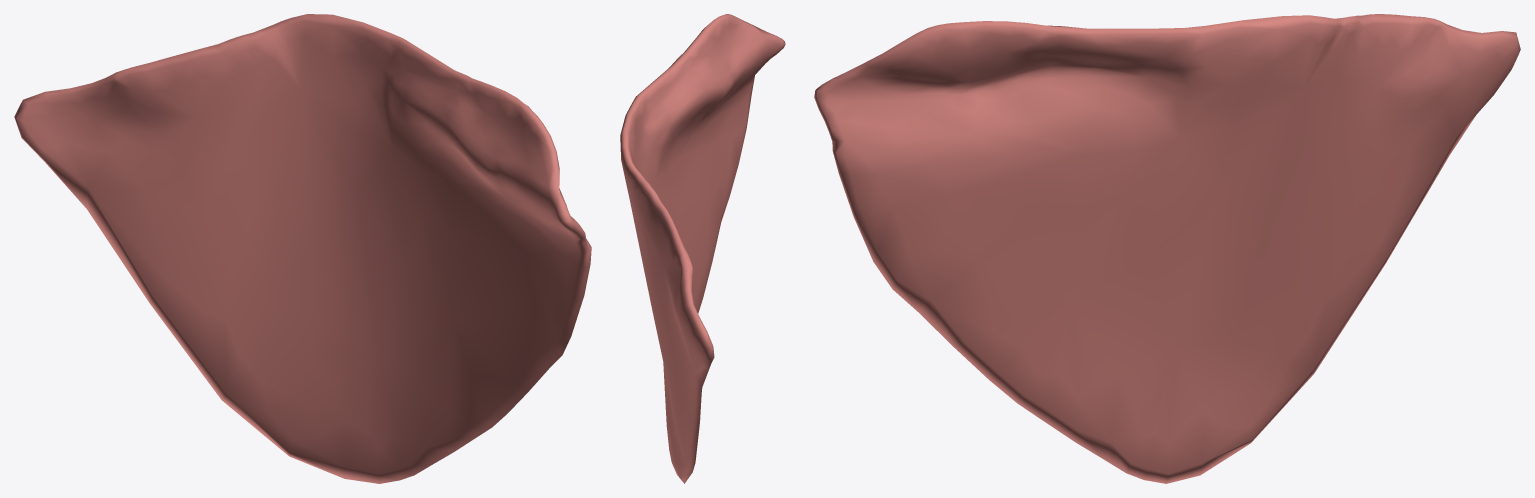
The picture shows the model from 3 angles, left to right: view 1: azimuth 30°, elevation 25°; view 2: azimuth 150°, elevation 25°; view 3: azimuth 270°, elevation 25°; orthographic projection. The views are drawn at different scales.
Parts seen in each view (by area): view 1: ZA_9e30d513900339d5; view 2: ZA_9e30d513900339d5; view 3: ZA_9e30d513900339d5.
Boxes of the visible parts, left/top/right/bottom form: ZA_9e30d513900339d5: left=14, top=14, right=591, bottom=483; ZA_9e30d513900339d5: left=620, top=14, right=785, bottom=483; ZA_9e30d513900339d5: left=814, top=14, right=1520, bottom=483.
Size of the model in its own units: 0.0112 by 0.0176 by 0.0231.
